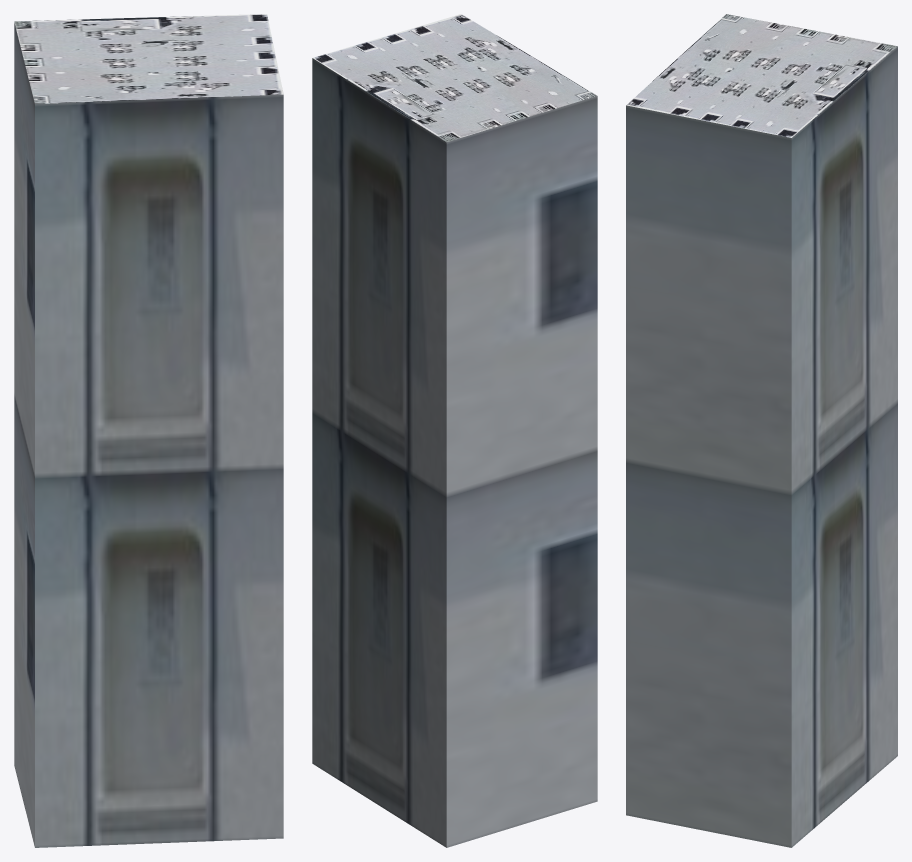
File: ResTex__4201.fbx
3 views of the same model, side by side, from view 1: azimuth 30°, elevation 25°; view 2: azimuth 150°, elevation 25°; view 3: azimuth 270°, elevation 25° (orthographic). The views are drawn at different scales.
Visible parts, largest first — view 1: CityEngineMaterial_17_m, CityEngineMaterial_m; view 2: CityEngineMaterial_17_m, CityEngineMaterial_m; view 3: CityEngineMaterial_17_m, CityEngineMaterial_m.
Boxes of the visible parts, x1,y1,x2,y2 form: CityEngineMaterial_17_m: (14,22,283,847); CityEngineMaterial_m: (14,14,283,103); CityEngineMaterial_17_m: (312,58,597,847); CityEngineMaterial_m: (313,14,597,142); CityEngineMaterial_17_m: (626,46,897,847); CityEngineMaterial_m: (626,14,897,137).
Bounding box in the file's own units: 2.25 × 6 × 2.08.
Materials: 2 (2 with a texture image).
